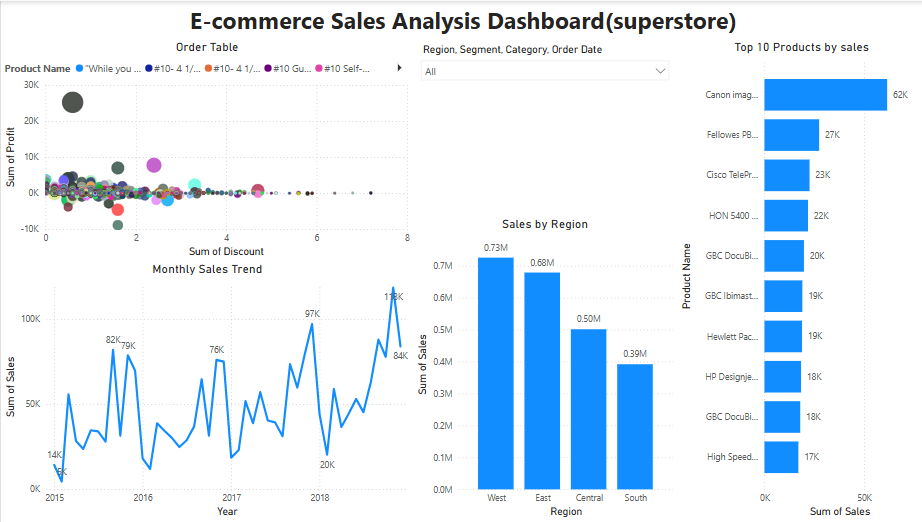

This screenshot's page, from the dashboard's own definition file:
{"tool":"powerbi","page":{"name":"Page 1","canvas":[1280,720],"ordinal":0},"visuals":[{"type":"clusteredBarChart","title":"Top 10 Products by sales","fields":{"Category":["Orders.Product Name"],"Y":["Sum(Orders.Sales)"]},"box":[934.6,53.8,344.6,665.4],"z":0},{"type":"clusteredColumnChart","title":"Sales by Region","fields":{"Category":["Orders.Region"],"Y":["Sum(Orders.Sales)"]},"box":[570.7,297.2,363.9,422.1],"z":1},{"type":"lineChart","title":"Monthly Sales Trend","fields":{"Y":["Sum(Orders.Sales)"],"Category":["Orders.Order Date.Variation.Date Hierarchy.Year","Orders.Order Date.Variation.Date Hierarchy.Month"]},"box":[0,359.6,570.7,359.6],"z":2},{"type":"scatterChart","title":"Order Table","fields":{"X":["Sum(Orders.Discount)"],"Y":["Sum(Orders.Profit)"],"Size":["Sum(Orders.Sales)"],"Series":["Orders.Product Name"]},"box":[0,53.8,570.7,305.8],"z":3},{"type":"slicer","fields":{"Values":["Orders.Region","Orders.Segment","Orders.Category","Orders.Order Date"]},"box":[570.7,53.8,363.9,243.3],"z":4},{"type":"textbox","box":[0,0,1279.2,53.8],"z":5}]}

Visuals, with their boxes in screenshot pixels (x1, y1, x2, y2), scaled from the page's 1280x720 canvas onto the 922x522 screenshot:
"Top 10 Products by sales" clusteredBarChart: <region>673, 39, 921, 521</region>
"Sales by Region" clusteredColumnChart: <region>411, 215, 673, 521</region>
"Monthly Sales Trend" lineChart: <region>0, 261, 411, 521</region>
"Order Table" scatterChart: <region>0, 39, 411, 261</region>
slicer - Orders.Region x Orders.Segment: <region>411, 39, 673, 215</region>
textbox: <region>0, 0, 921, 39</region>
